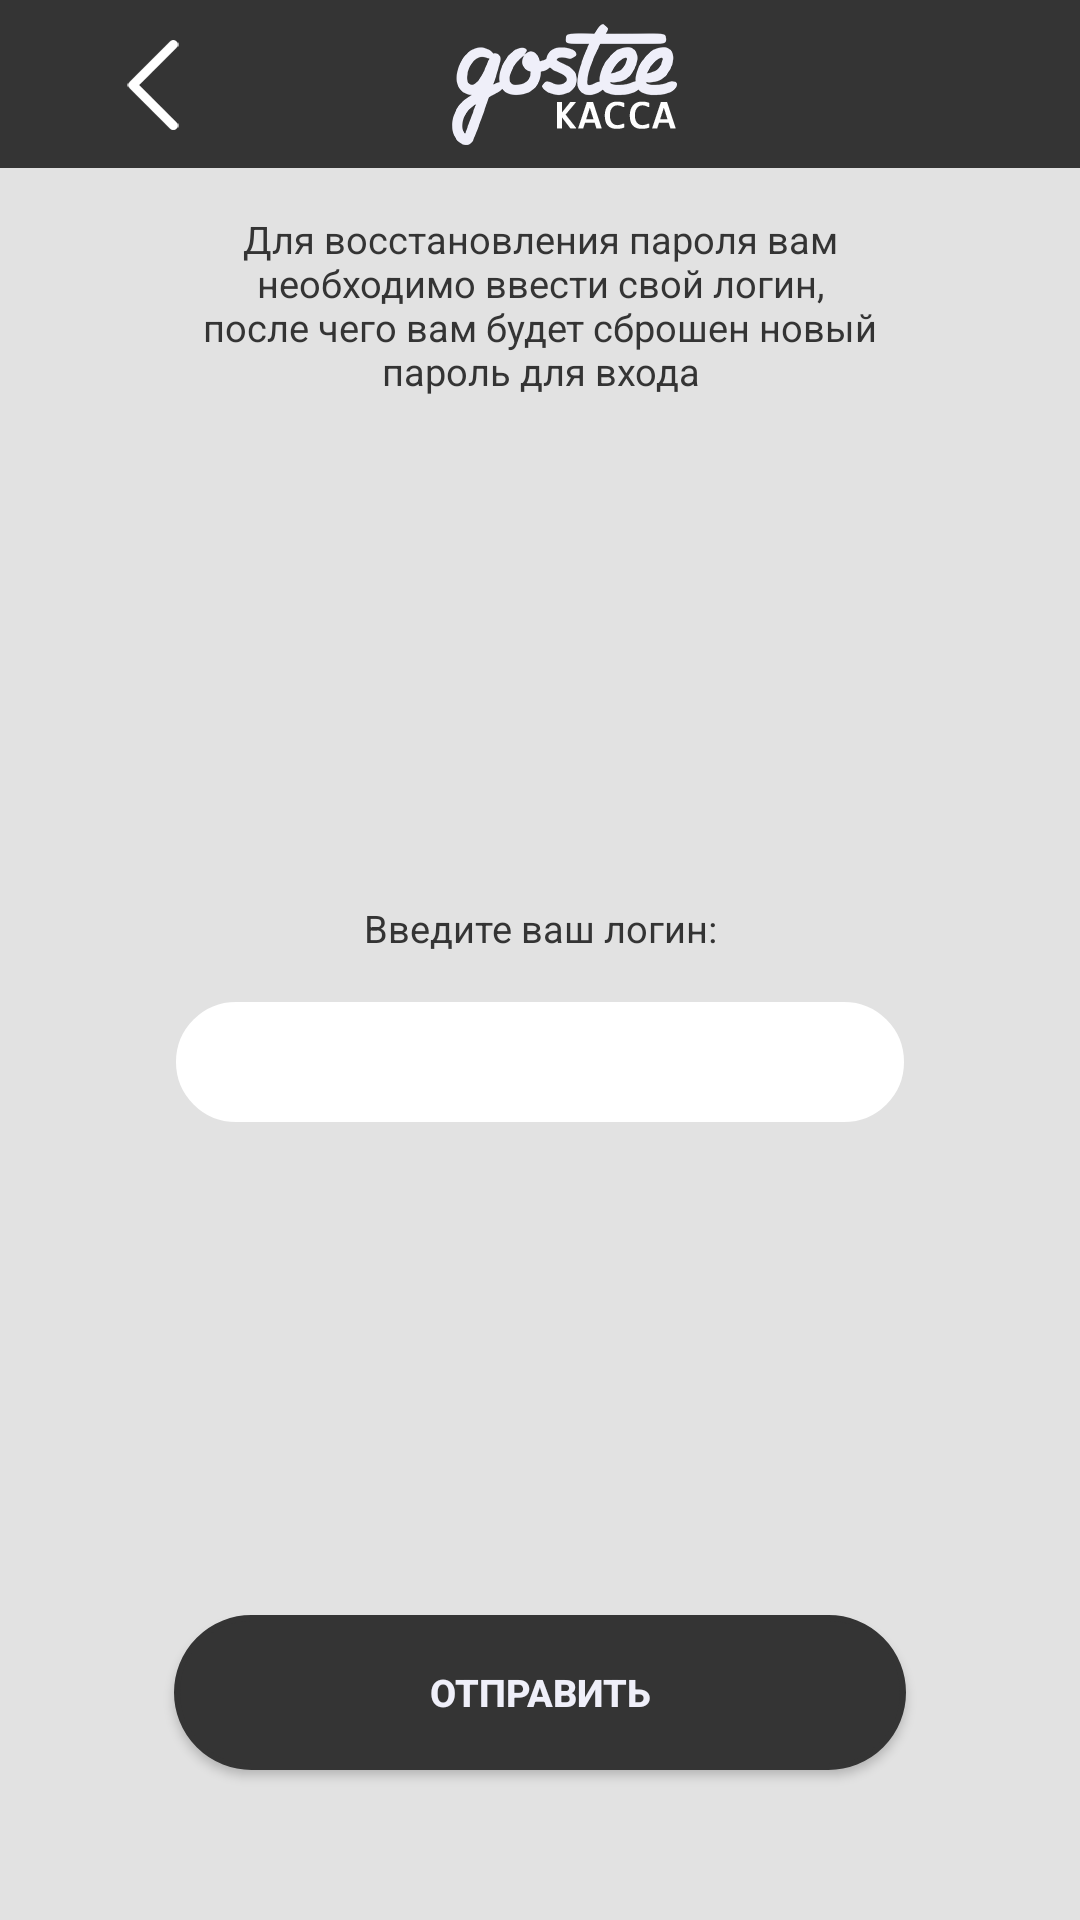

Where to tap for icons on this 1080w x 1920h app screen, as point (x, y):
back: point (153, 85)
